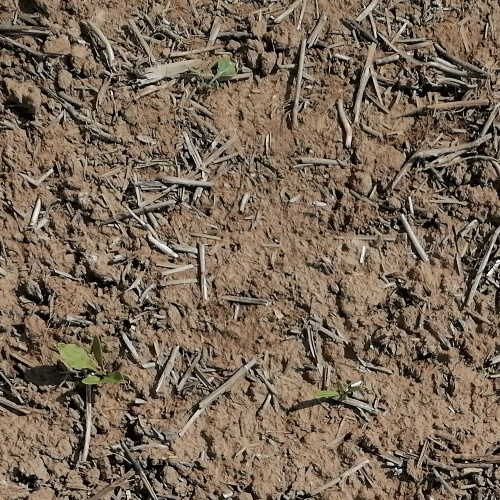beet: (55, 340, 125, 387), (315, 382, 360, 401)
